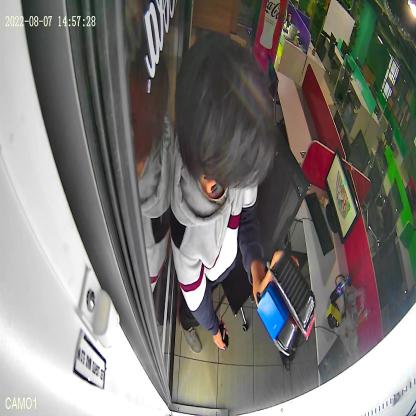blue: (256, 282, 298, 358)
red: (266, 249, 315, 340)
